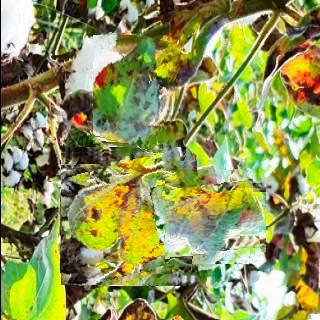blight: (60, 148, 198, 285), (92, 35, 176, 151), (164, 170, 258, 264)
